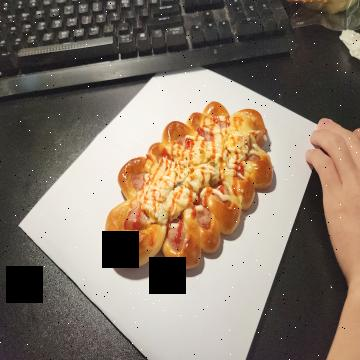pizza_bread: (103, 101, 276, 272)
